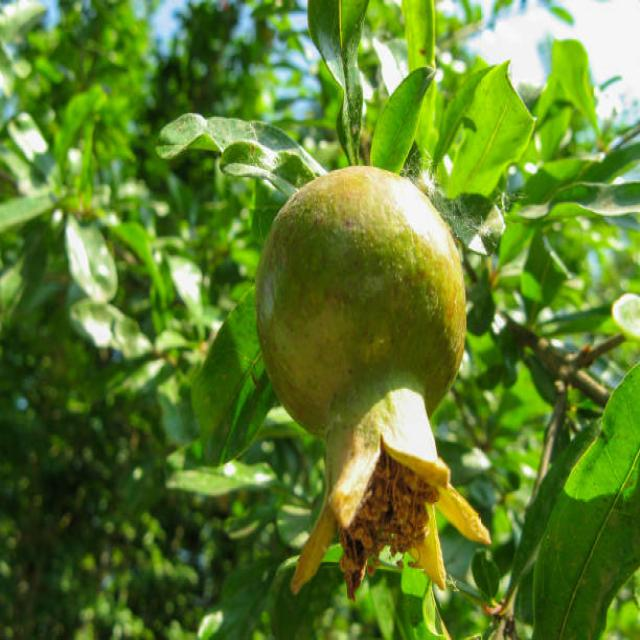Unripe: (256, 169, 493, 596)
